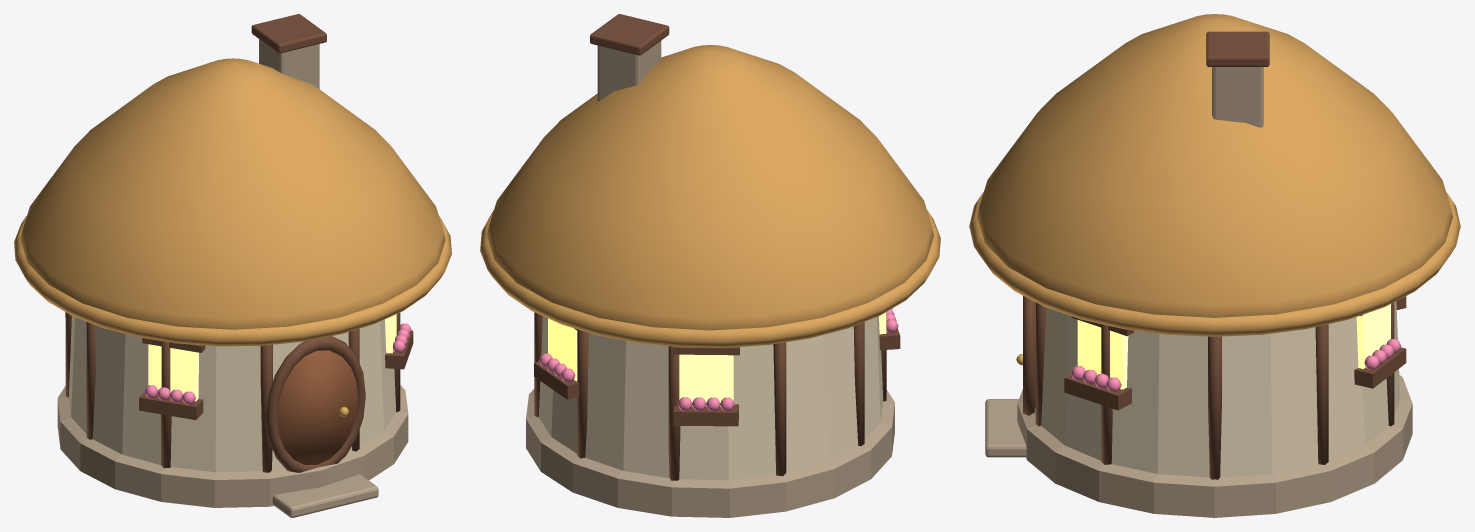
Rendered from cottage.glb.
3 renders of one model, left to right at view 1: azimuth 30°, elevation 25°; view 2: azimuth 150°, elevation 25°; view 3: azimuth 270°, elevation 25°, orthographic. The views are drawn at different scales.
Parts seen in each view (by area): view 1: cottage; view 2: cottage; view 3: cottage.
Part boxes in pixels (box(x1,y1,x2,y2)): cottage: box(14, 14, 451, 517); cottage: box(480, 14, 940, 517); cottage: box(969, 14, 1460, 517).
Bounding box in the file's own units: 4.28 × 4.1 × 4.28.
